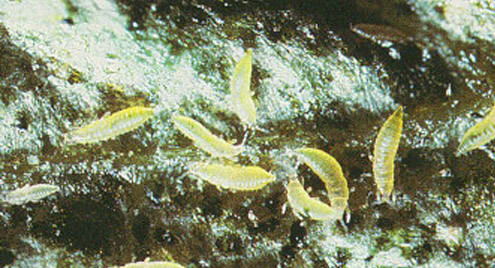Thrips: (64, 96, 159, 158), (170, 105, 246, 168), (368, 99, 413, 199), (180, 154, 278, 199), (296, 150, 358, 221), (226, 51, 265, 137)
